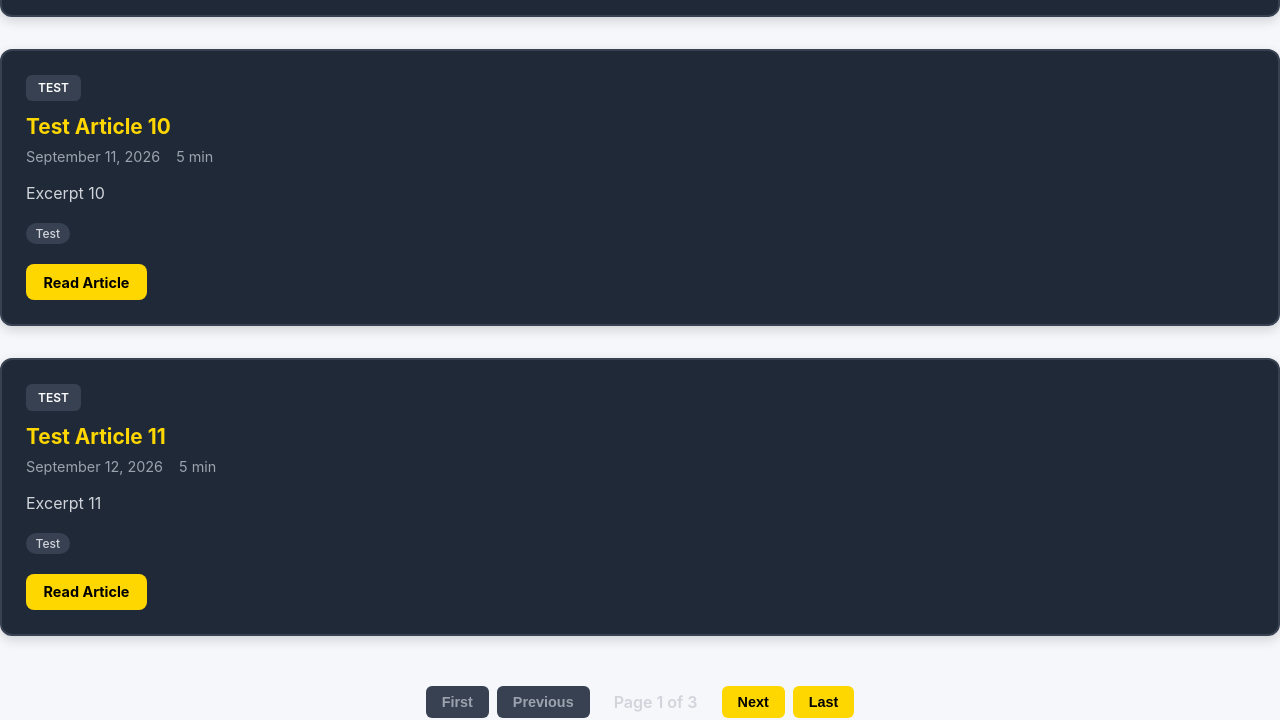
NewsIndex search › resets to page 1 when search query changes
(page scrolled)
Click the button "Next" at (753, 702), box [722,686,785,718]
(page scrolled)
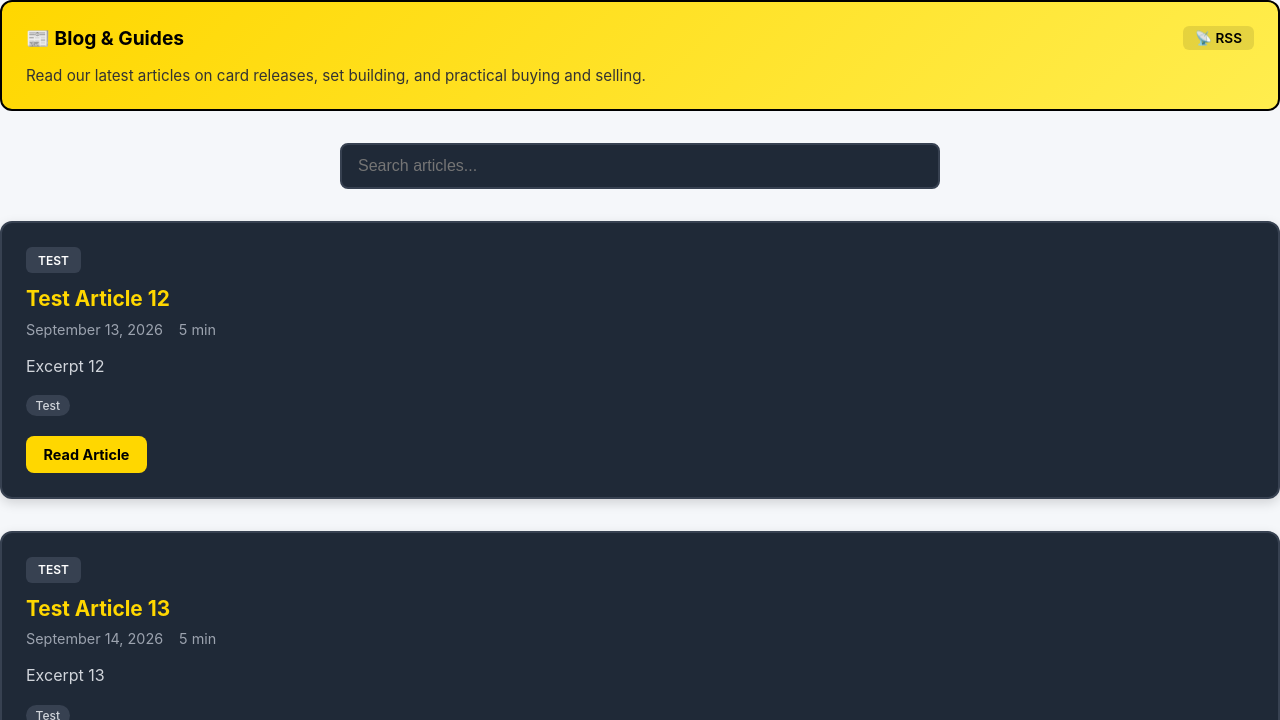
Type "Test" into the search field with placeholder "Search articles..." at (640, 166), box [340,143,940,189]
(page scrolled)
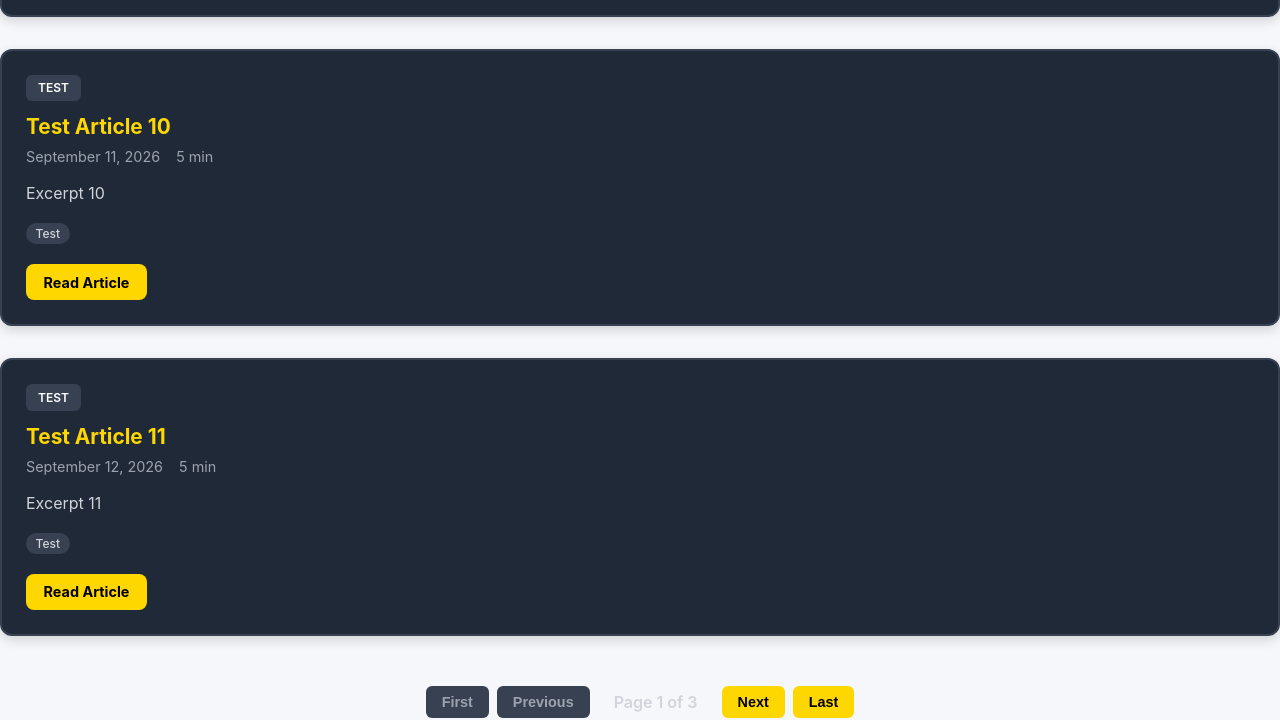
expect the text "Page 1 of 3" is shown: met, box [614,692,698,712]
